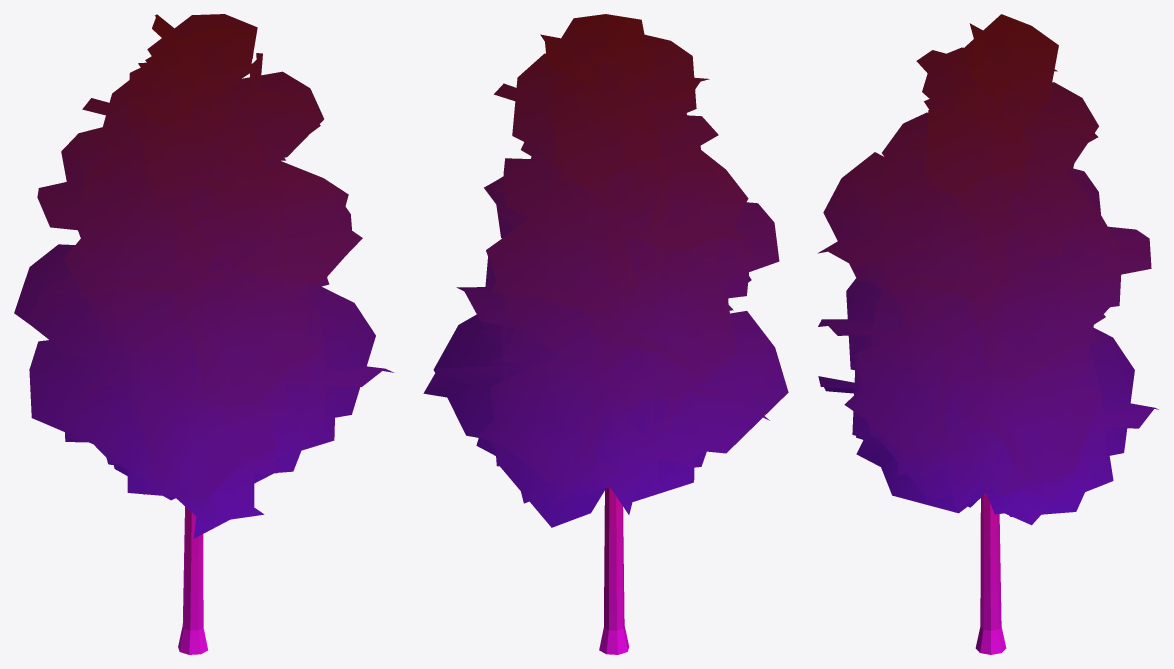
File: synty-tree-birch-01.gltf
3 views of the same model, side by side, from view 1: azimuth 30°, elevation 25°; view 2: azimuth 150°, elevation 25°; view 3: azimuth 270°, elevation 25° (orthographic).
Parts seen in each view (by area): view 1: SM_Tree_Birch_01; view 2: SM_Tree_Birch_01; view 3: SM_Tree_Birch_01.
Boxes of the visible parts, bbox=[...] form: SM_Tree_Birch_01: bbox=[14, 14, 394, 654]; SM_Tree_Birch_01: bbox=[423, 14, 788, 654]; SM_Tree_Birch_01: bbox=[817, 14, 1158, 654].
Size of the model in its own units: 2.45 by 4.55 by 2.29.
